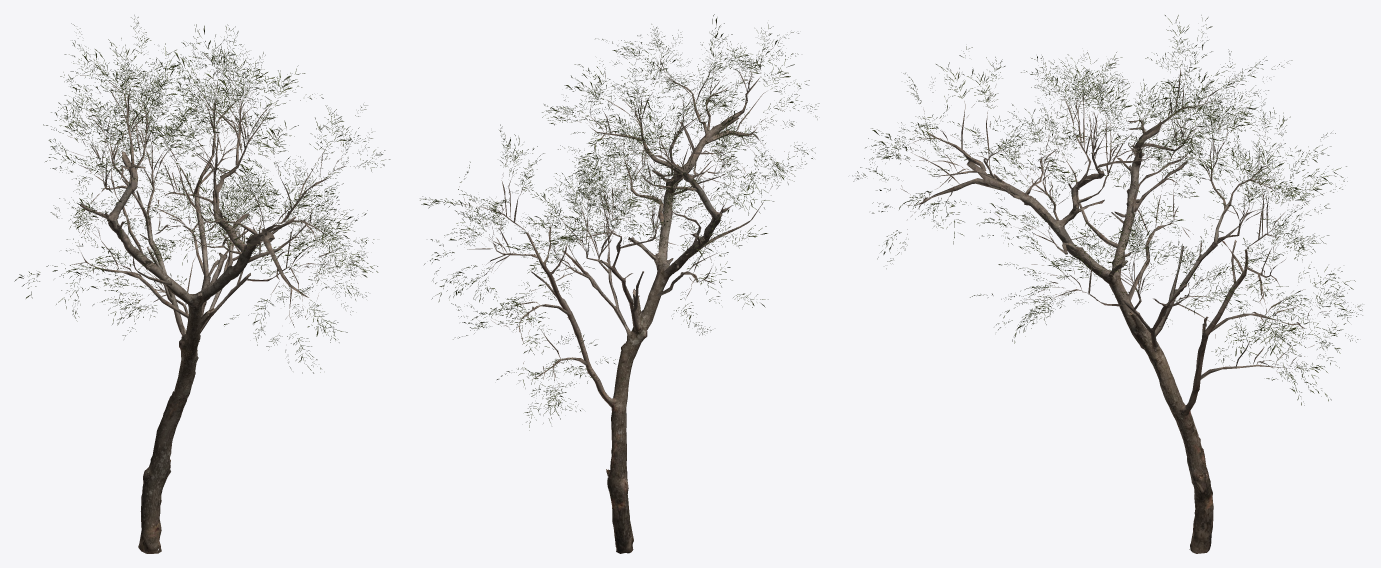
File: tree_small_02.glb
3 views of the same model, side by side, from view 1: azimuth 30°, elevation 25°; view 2: azimuth 150°, elevation 25°; view 3: azimuth 270°, elevation 25° (orthographic). The views are drawn at different scales.
Parts seen in each view (by area): view 1: tree_small_02_LOD0.002, tree_small_02_LOD0, tree_small_02_LOD0.001; view 2: tree_small_02_LOD0.002, tree_small_02_LOD0, tree_small_02_LOD0.001; view 3: tree_small_02_LOD0.002, tree_small_02_LOD0, tree_small_02_LOD0.001.
Part boxes in pixels (<box>): tree_small_02_LOD0.002: <box>14,15,390,373</box>; tree_small_02_LOD0: <box>80,151,296,553</box>; tree_small_02_LOD0.001: <box>67,53,355,334</box>; tree_small_02_LOD0.002: <box>420,14,819,430</box>; tree_small_02_LOD0: <box>526,117,739,553</box>; tree_small_02_LOD0.001: <box>450,38,796,398</box>; tree_small_02_LOD0.002: <box>852,15,1362,405</box>; tree_small_02_LOD0: <box>966,120,1248,553</box>; tree_small_02_LOD0.001: <box>896,40,1335,380</box>.
Size of the model in its own units: 2.87 by 4.54 by 4.27.
Materials: 3 (3 with a texture image).
